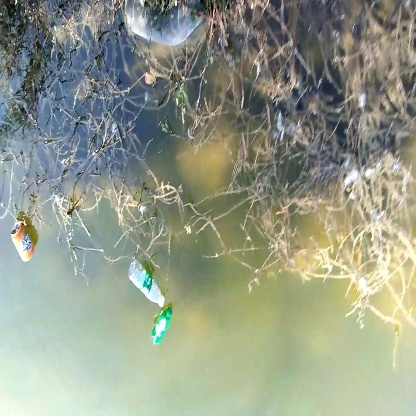bottle: (126, 257, 172, 311), (8, 220, 40, 262)
